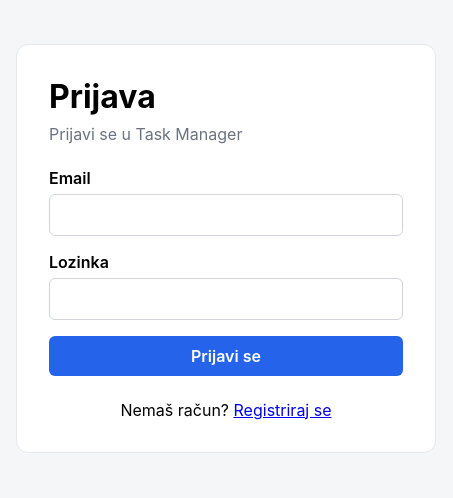
LoginPage › shows an error when login fails
Step 1. Type "jelena@example.com" into the field labelled "Email" → point(226, 214), box [49,194,403,236]
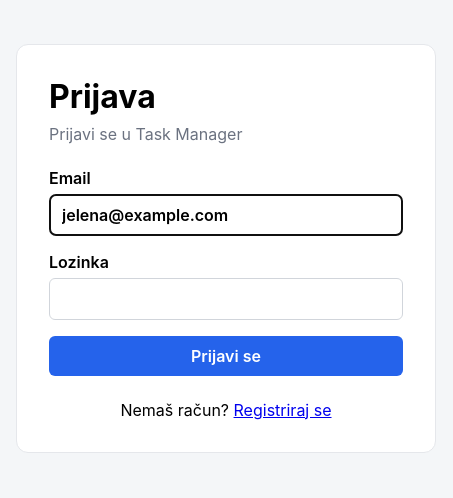
Step 2. Type "wrong-password" into the password field labelled "Lozinka" → point(226, 298), box [49,278,403,320]
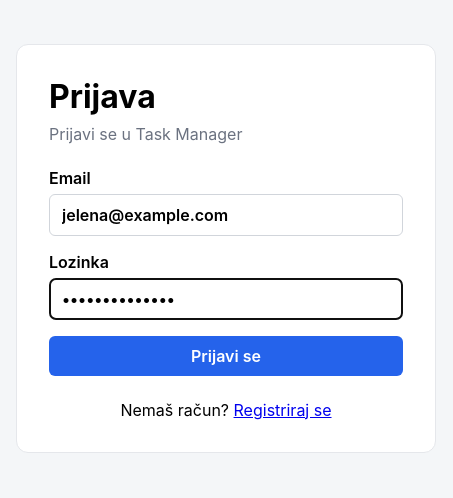
Step 3. Click the button "Prijavi se" → point(226, 356), box [49,336,403,376]
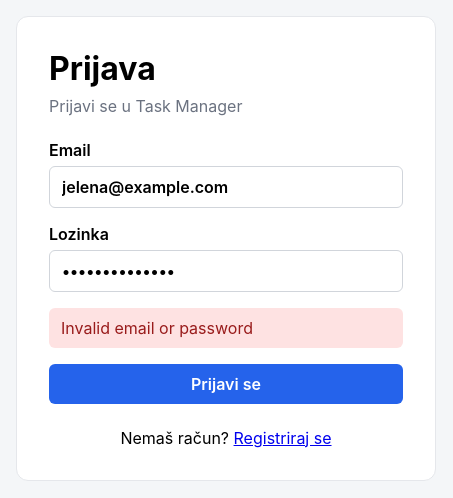
Expected: the text "Invalid email or password" is shown, [49,308,403,348]
